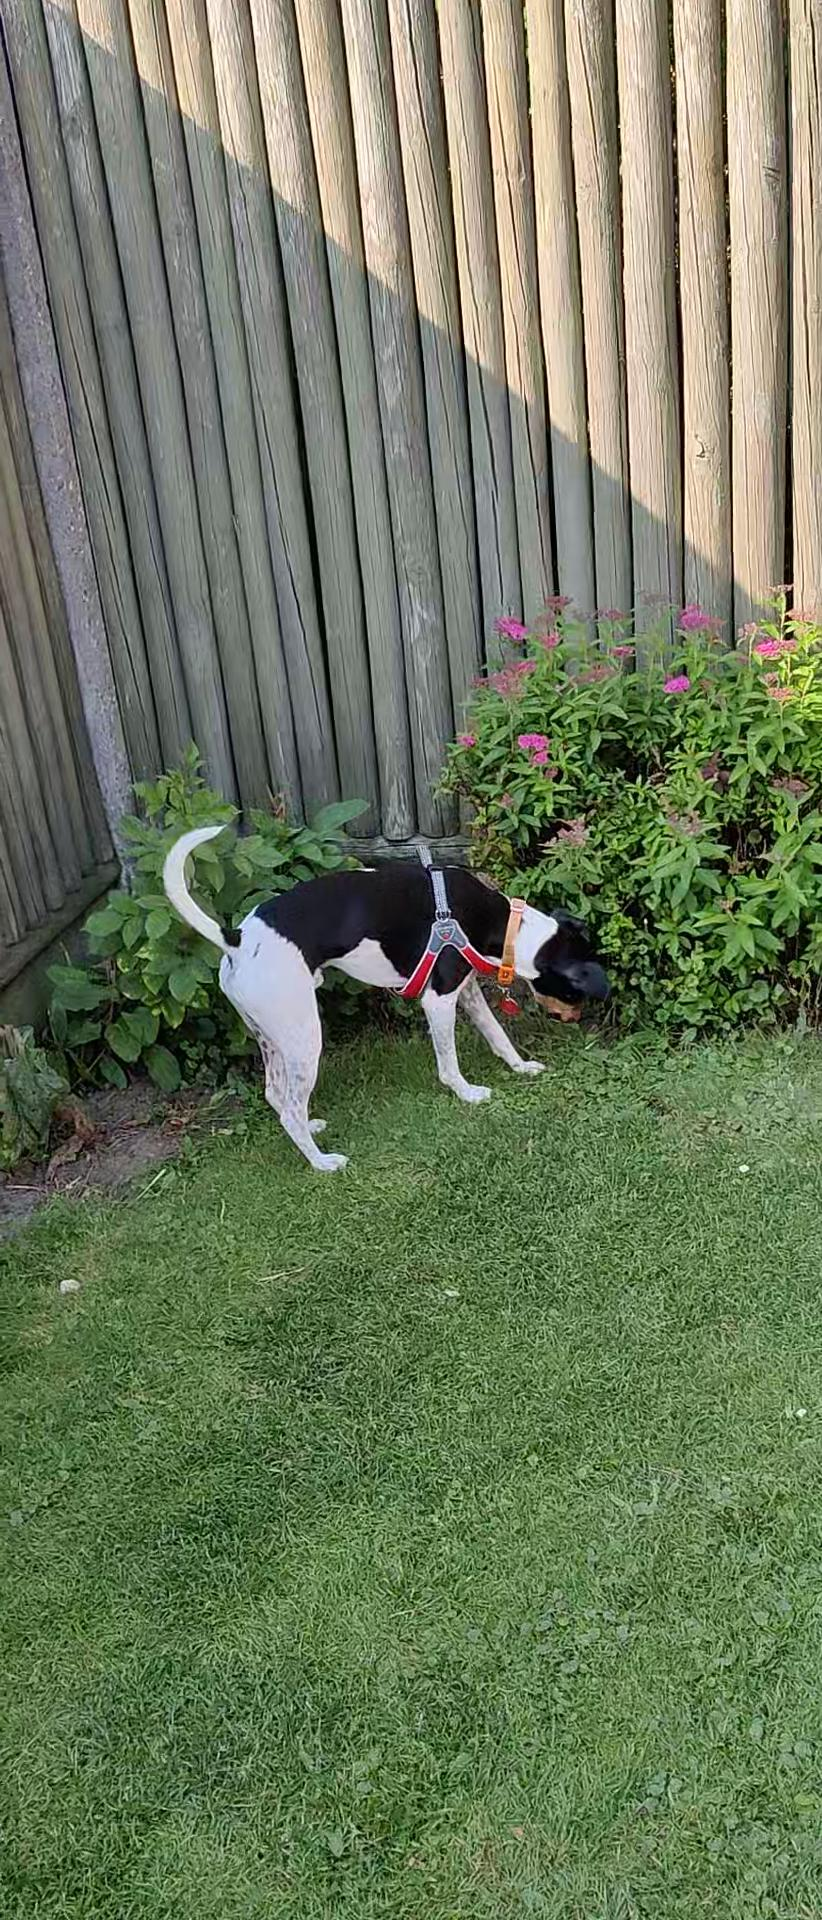Dog: (141, 808, 628, 1187)
